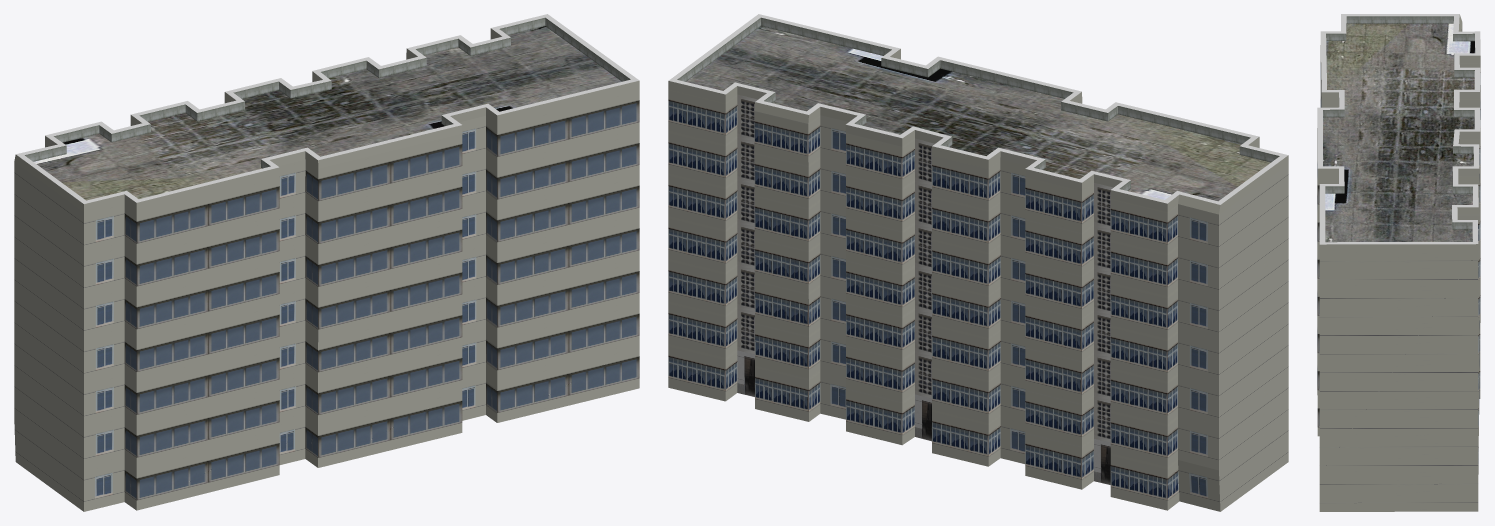
3 views of the same model, side by side, from view 1: azimuth 30°, elevation 25°; view 2: azimuth 150°, elevation 25°; view 3: azimuth 270°, elevation 25° (orthographic). The views are drawn at different scales.
Parts seen in each view (by area): view 1: jz30; view 2: jz30; view 3: jz30.
Part boxes in pixels (box(x1,y1,x2,y2)): jz30: box(14, 14, 639, 511); jz30: box(668, 14, 1288, 511); jz30: box(1317, 14, 1480, 511).
Size of the model in its own units: 3996 by 2162 by 1198.
Materials: 9 (9 with a texture image).
